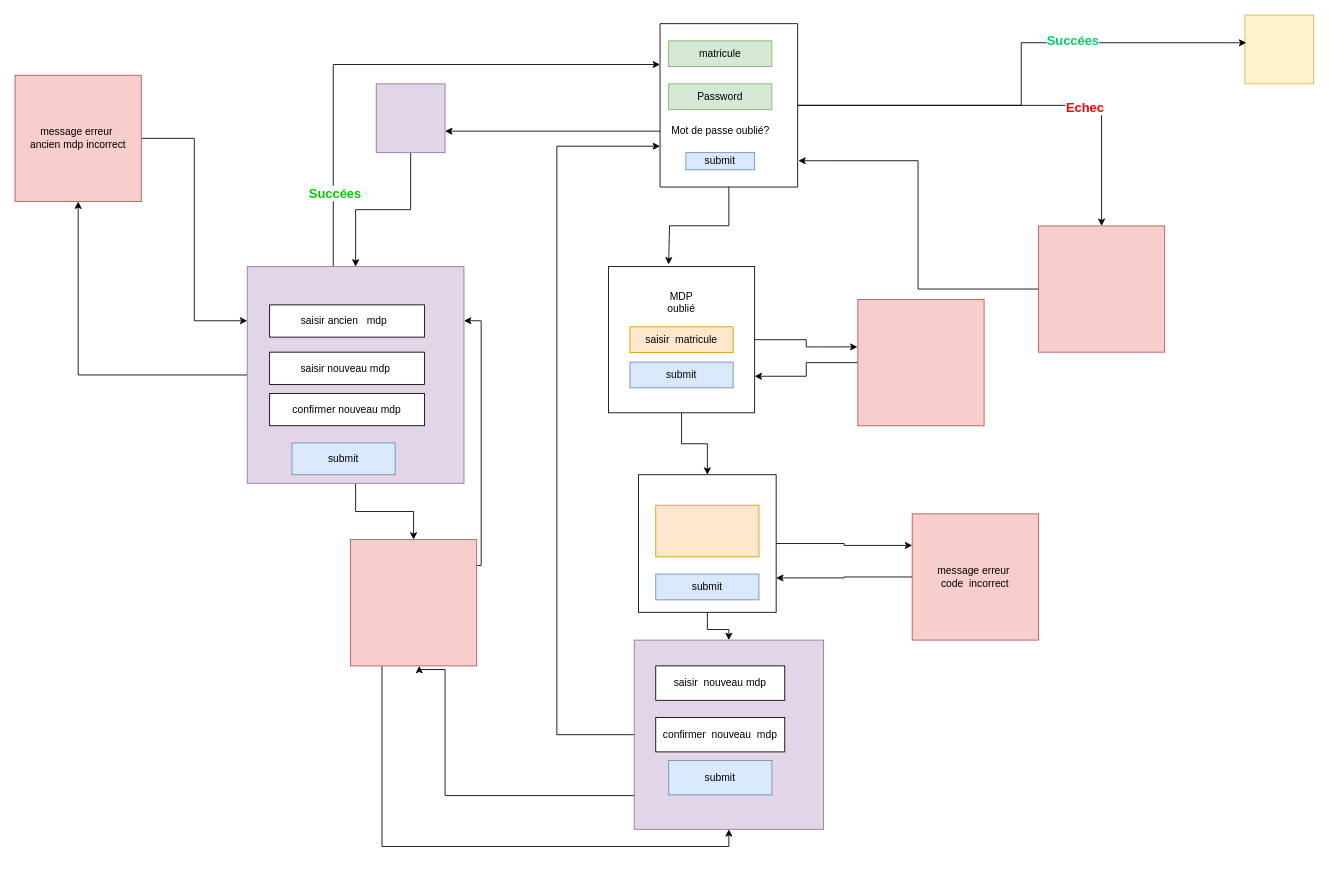
This 1329x869 diagram has some shape labels left out. Each missing label, with the centre of its shape:
1ére connexion: the point at 410,118
IHM: the point at 1279,49
message erreur email incorrect: the point at 920,362
message erreur email or mdp incorrect: the point at 1101,288
message erreur pas de cohérence entre ancien et nouveau mdp: the point at 413,602
saisir code vérification: the point at 707,530
